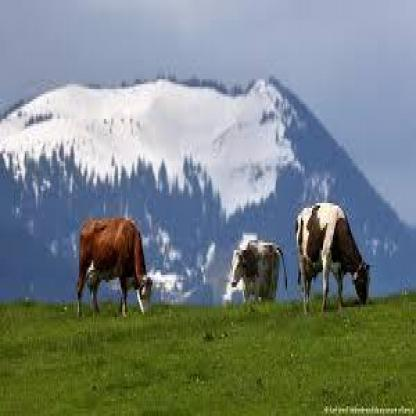cow: (296, 206, 370, 314), (78, 218, 151, 317), (229, 241, 281, 311)
